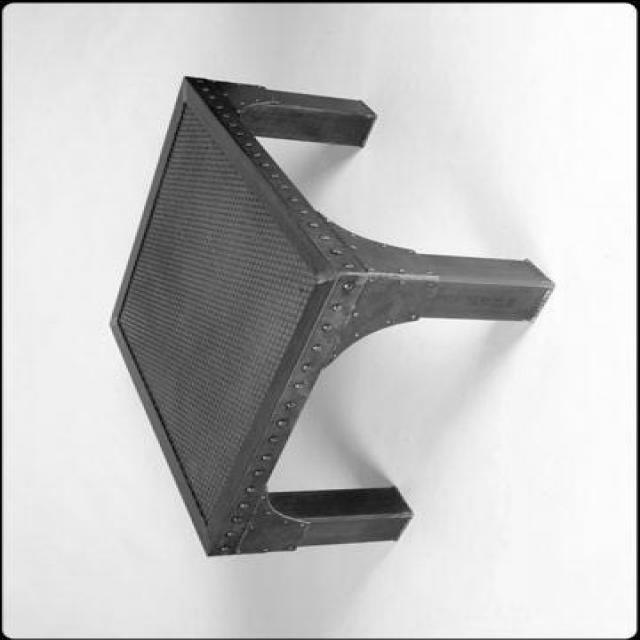table: (107, 76, 555, 556)
